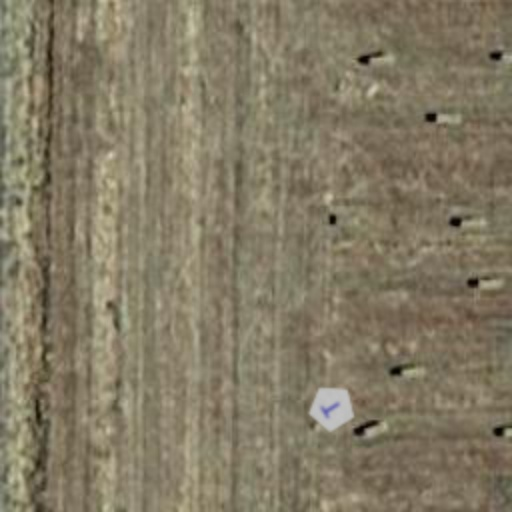pentagon: (298, 374, 366, 442)
